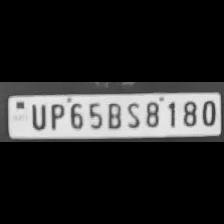0: (198, 98, 218, 126)
1: (162, 100, 178, 128)
5: (85, 100, 103, 130)
6: (65, 100, 84, 130)
8: (178, 98, 198, 128), (142, 100, 162, 128)
B: (104, 100, 122, 130)
P: (46, 100, 64, 130)
S: (124, 100, 142, 130)
U: (26, 100, 48, 130)
